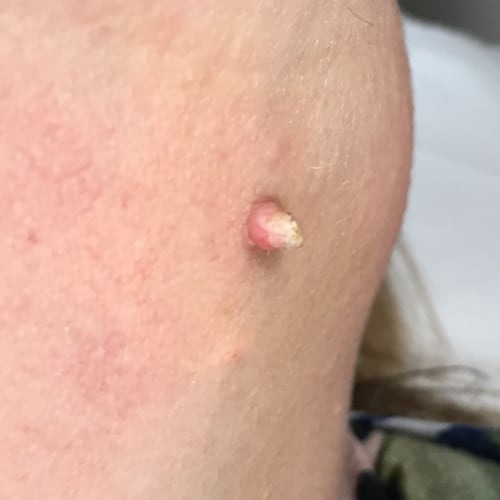Warts: (230, 173, 314, 269)
